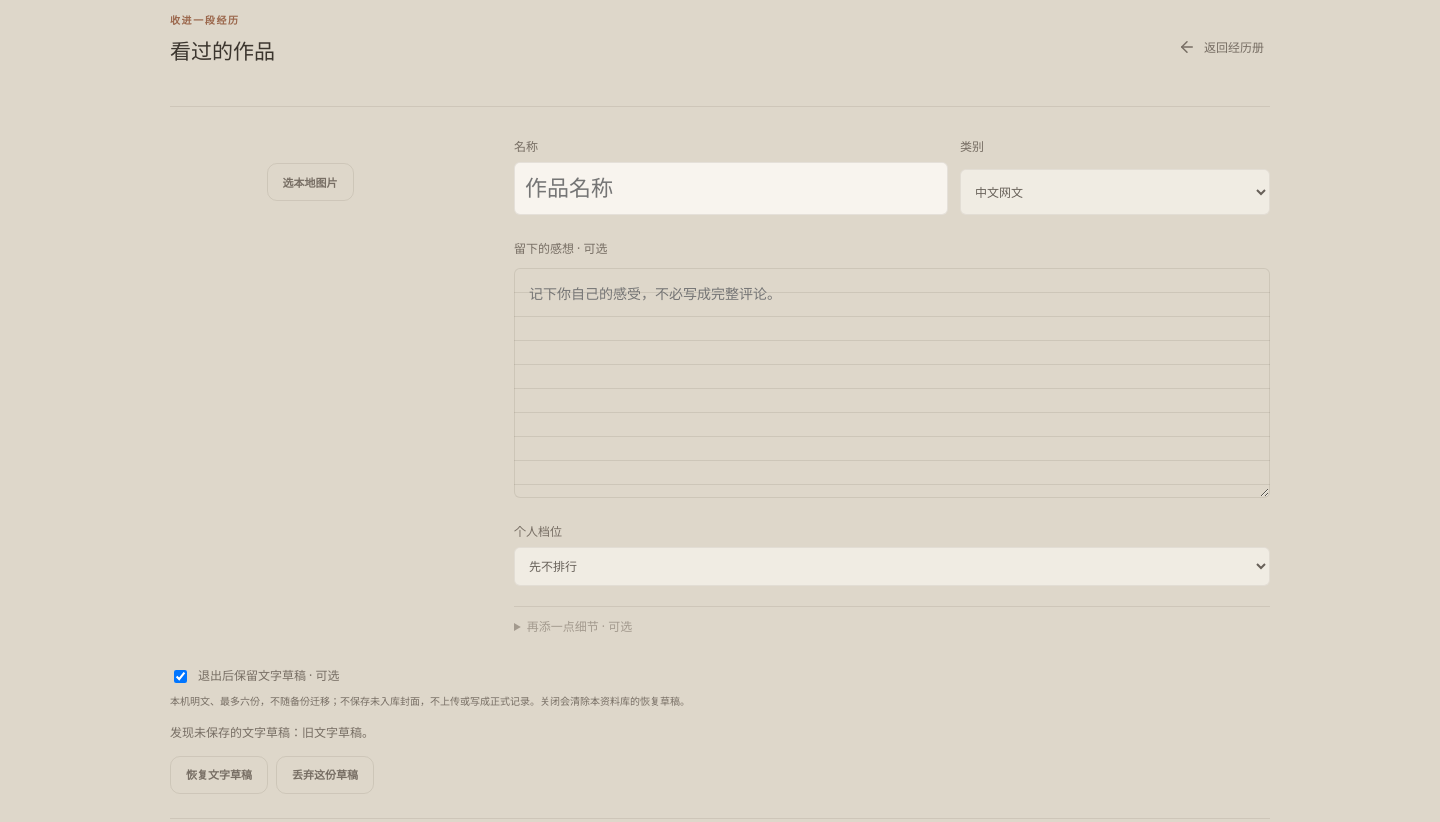
Test case: draft recovery is explicit and does not create formal records › offers restore/discard first; restoring text warns that the image must be selected again
Expected: the field labelled "名称" is empty, x1=514 y1=162 x2=948 y2=215
Expected: the field labelled "名称" is disabled, x1=514 y1=162 x2=948 y2=215
Step 1. Click the button "恢复文字草稿" → (219,775), box x1=170 y1=756 x2=268 y2=794
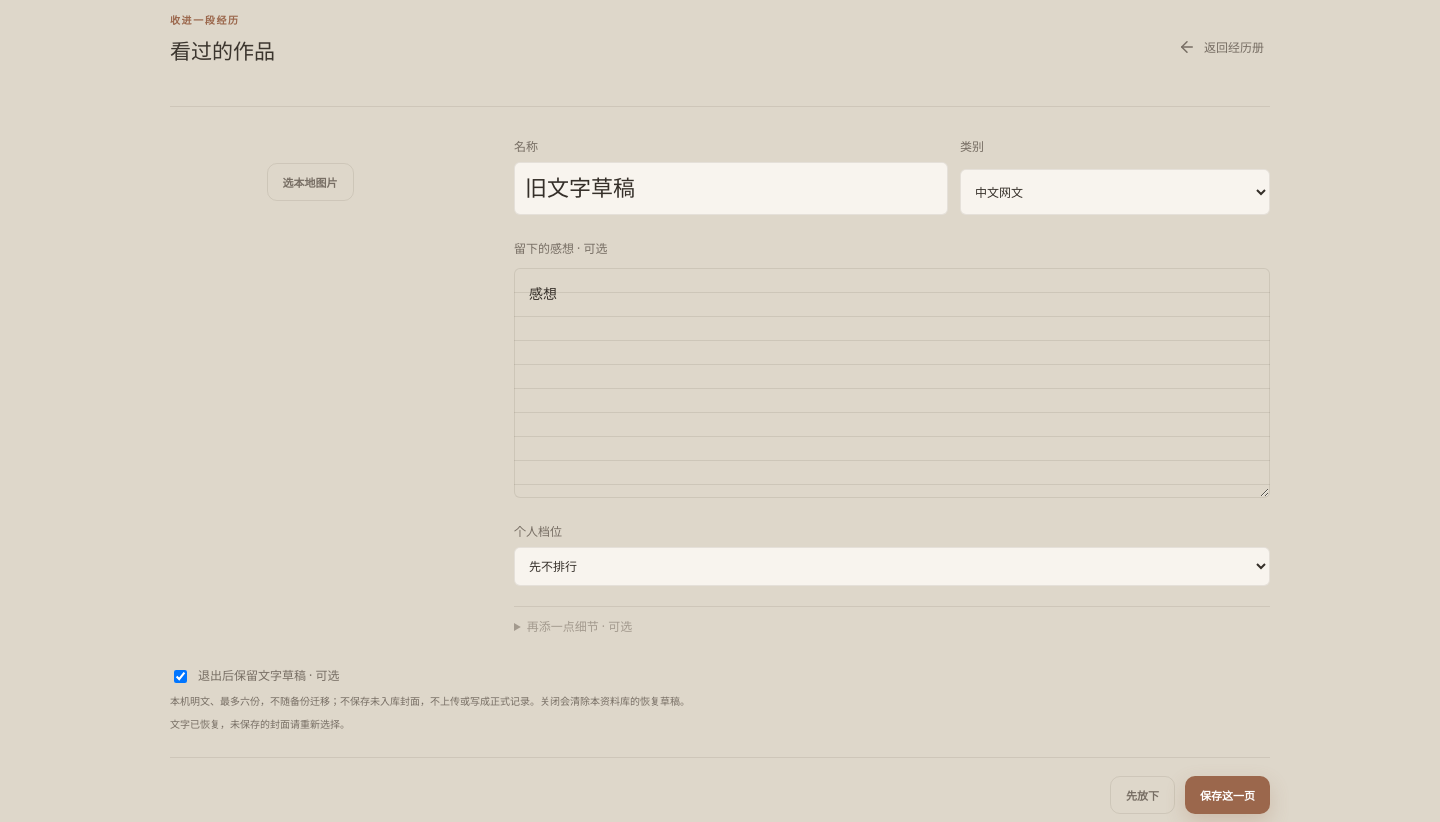
Expected: the field labelled "名称" is enabled, x1=514 y1=162 x2=948 y2=215
Expected: the field labelled "名称" holds "旧文字草稿", x1=514 y1=162 x2=948 y2=215
Expected: the text "文字已恢复，未保存的封面请重新选择。" is shown, x1=170 y1=717 x2=350 y2=731
